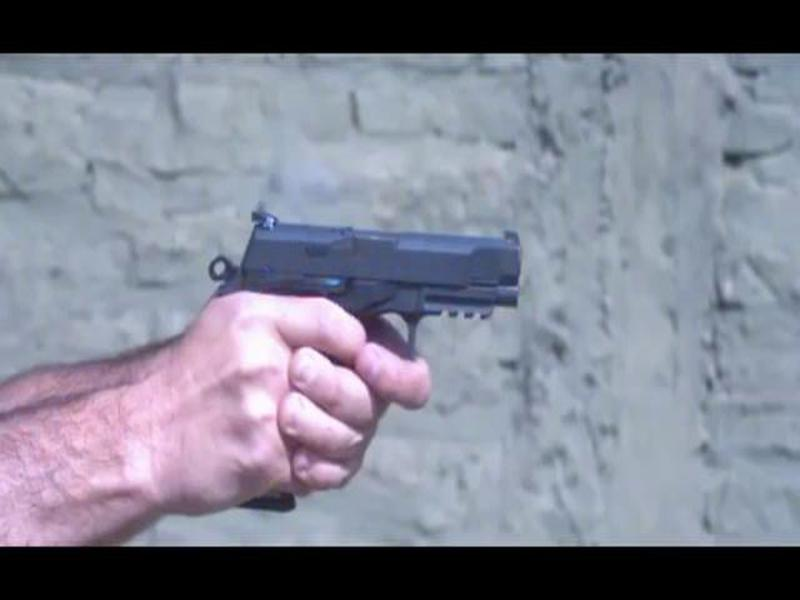Pistola: (205, 205, 534, 433)
